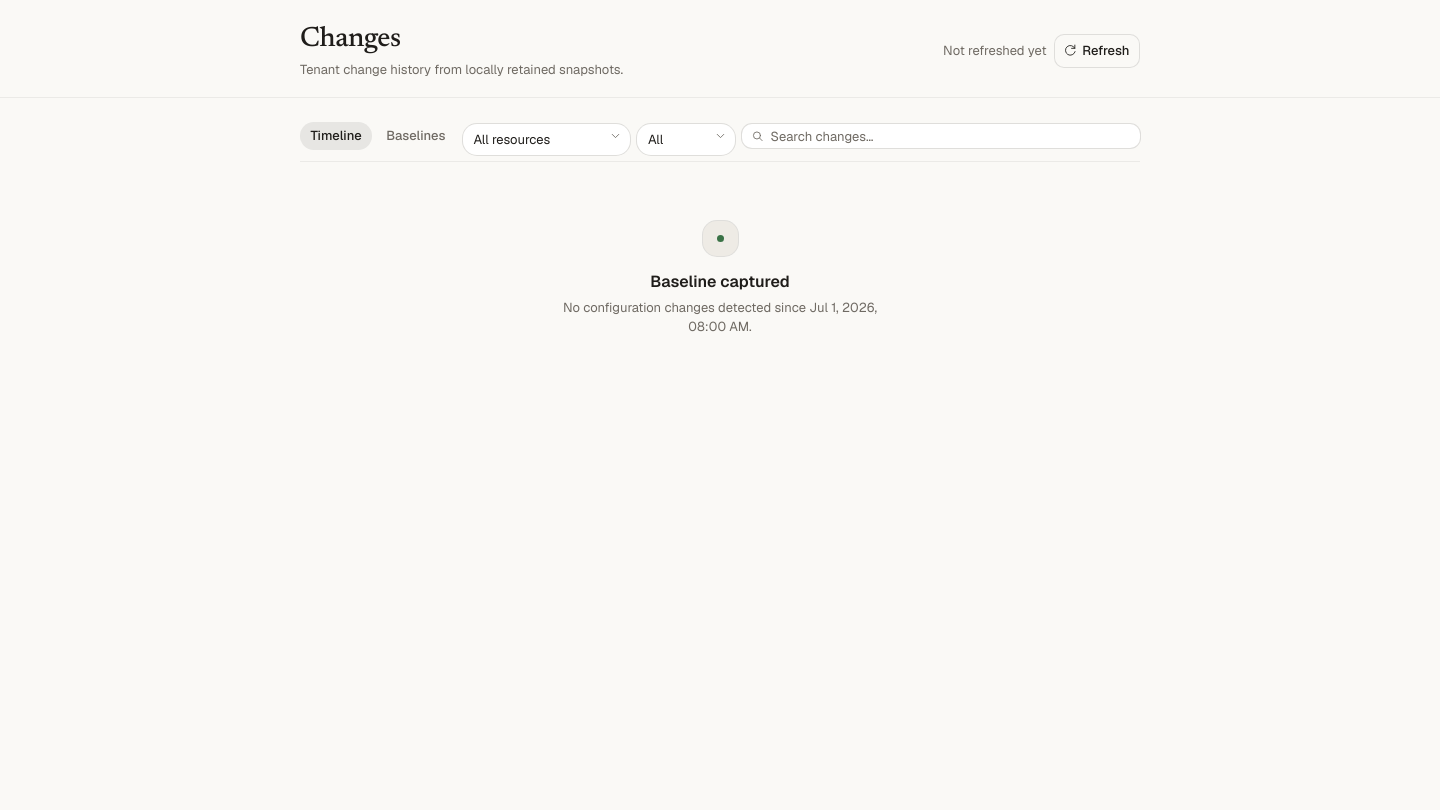
Changes page › retires the active baseline and returns to the empty state
The image size is (1440, 810).
Click the tab "Baselines": (416, 136) [376,122,456,150]
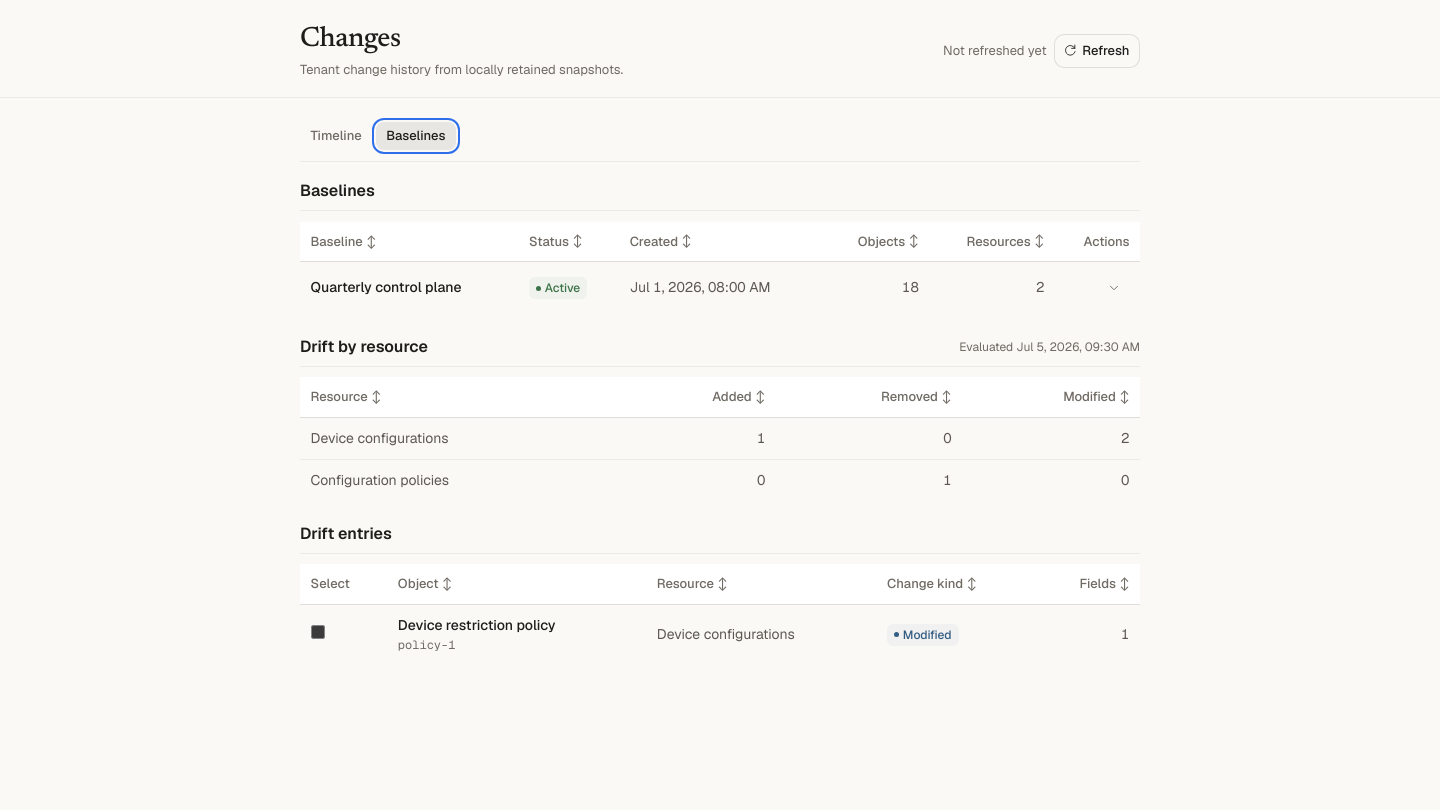
Check: the text "Quarterly control plane" is shown, box [310,278,462,296]
Click the button named "Actions for Quarterly control plane": (1114, 288) [1098,272,1130,304]
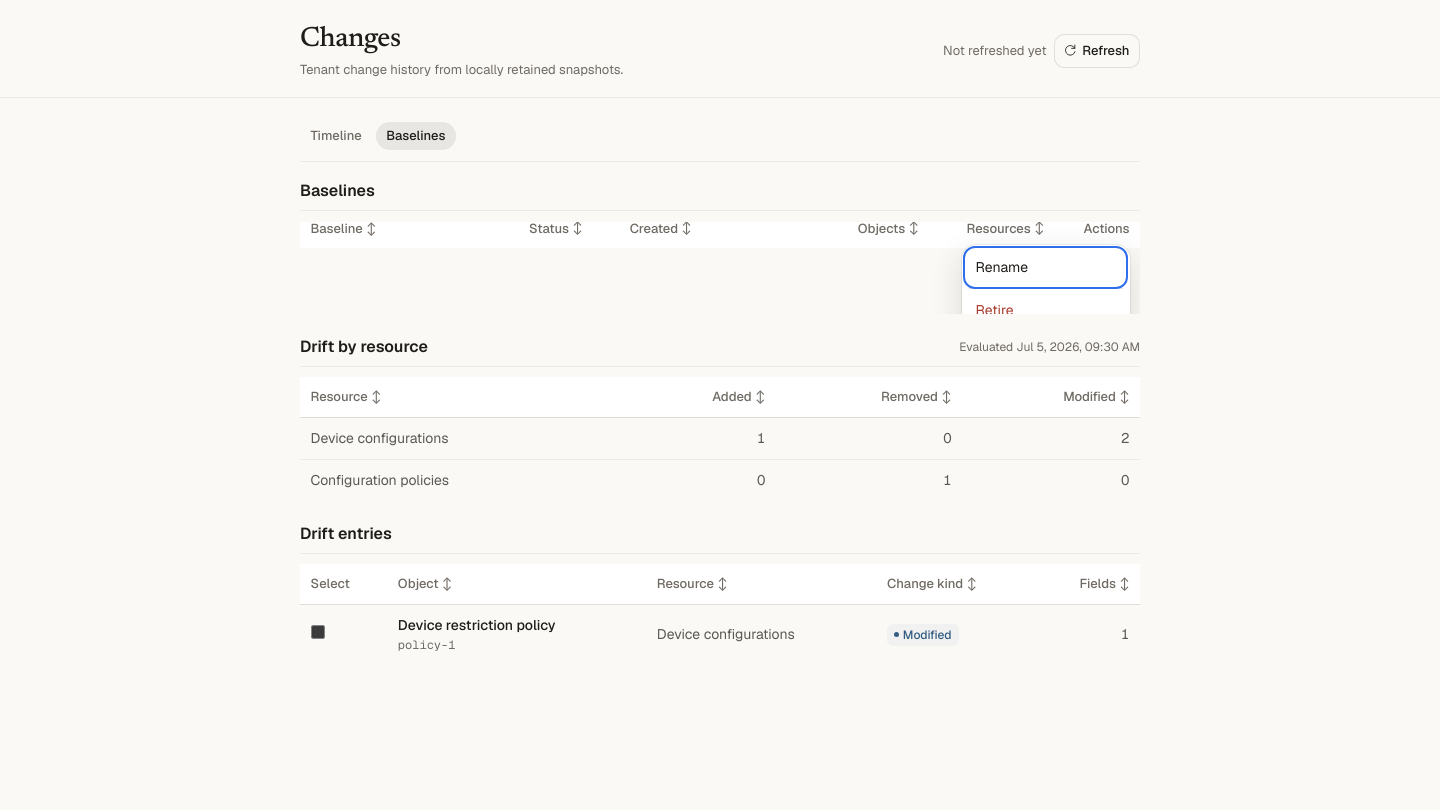
Click the menu item "Retire": (1046, 310) [967,293,1124,328]
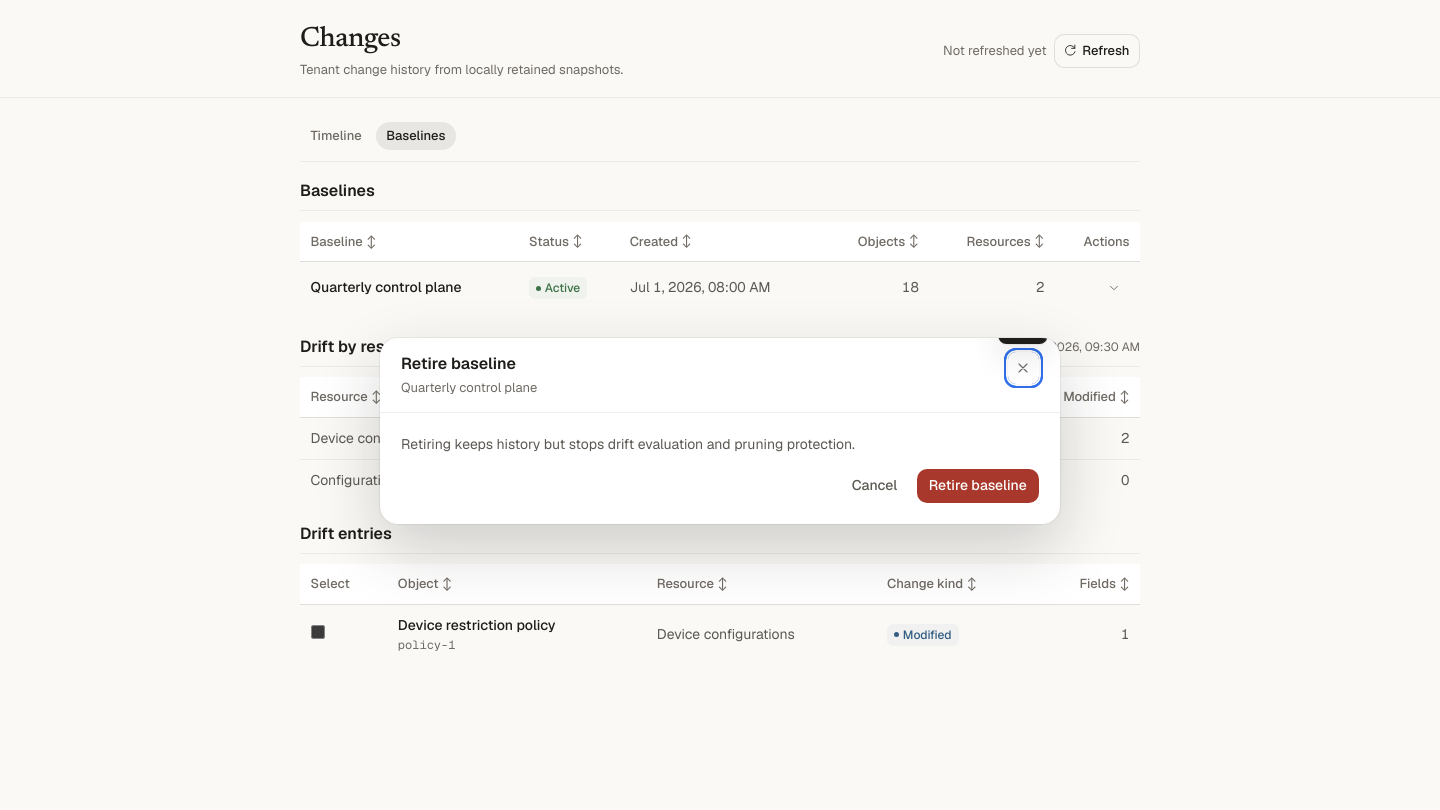
Check: the text "Retiring keeps history but stops drift evaluation and pruning protection." is shown, box [401,435,855,453]
Click the button "Retire baseline": (978, 486) [916,469,1039,503]
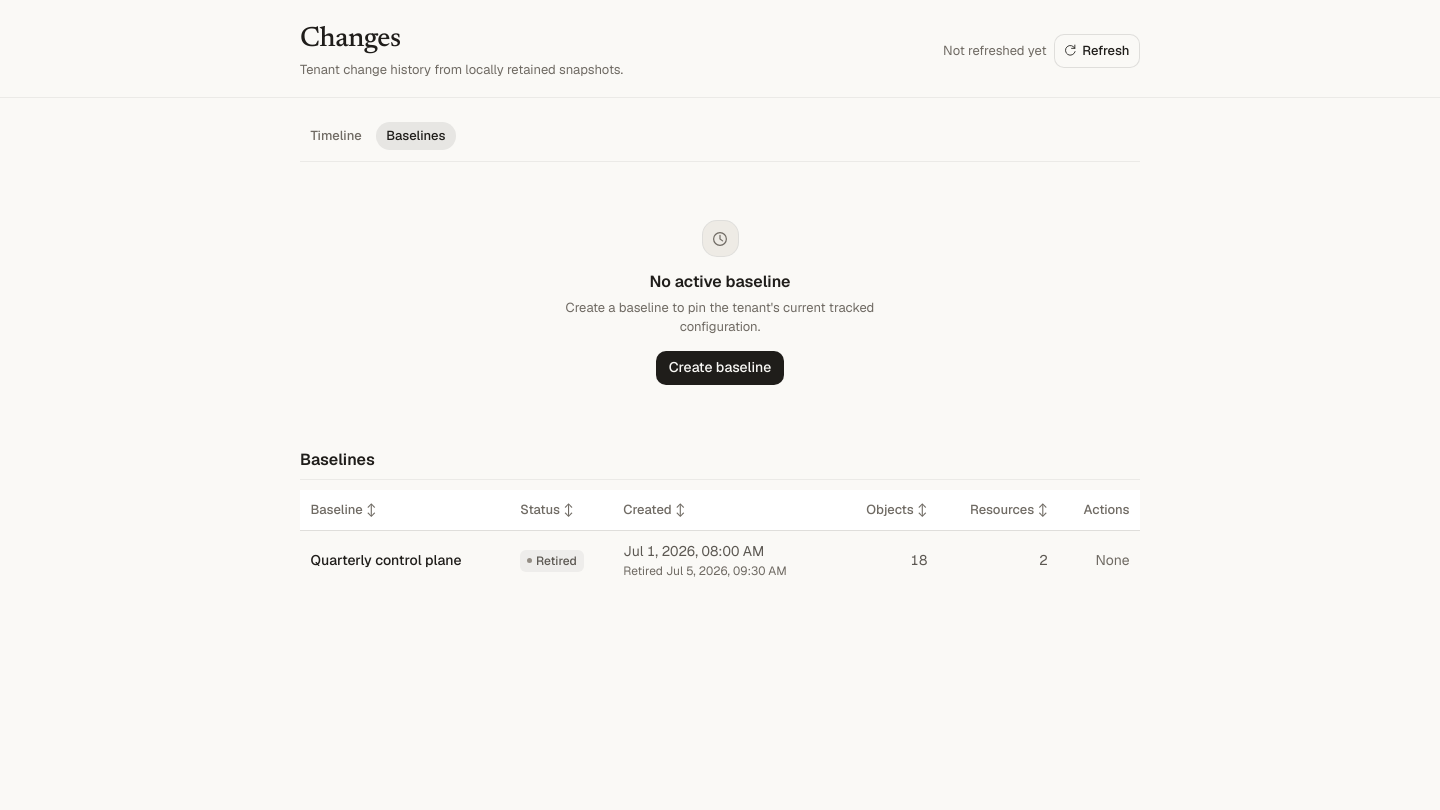
Check: the heading "No active baseline" is shown, box [649,270,790,294]
Check: the text "Retired" is shown, box [520,550,584,572]
